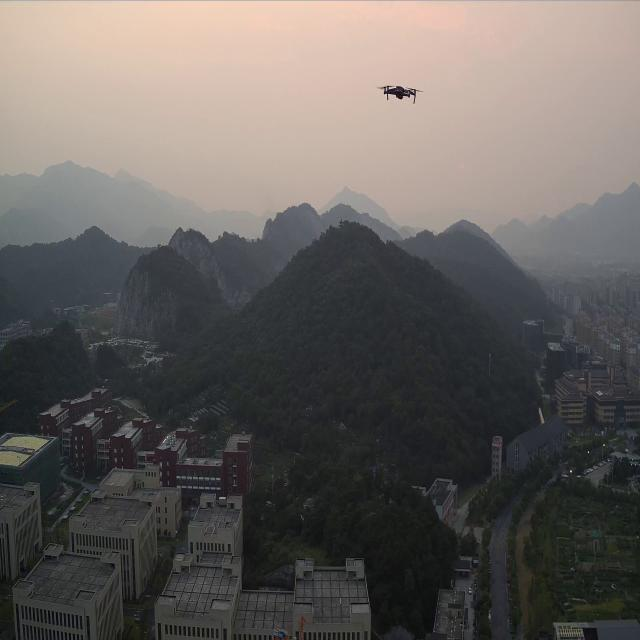UAV: (378, 79, 418, 106)
